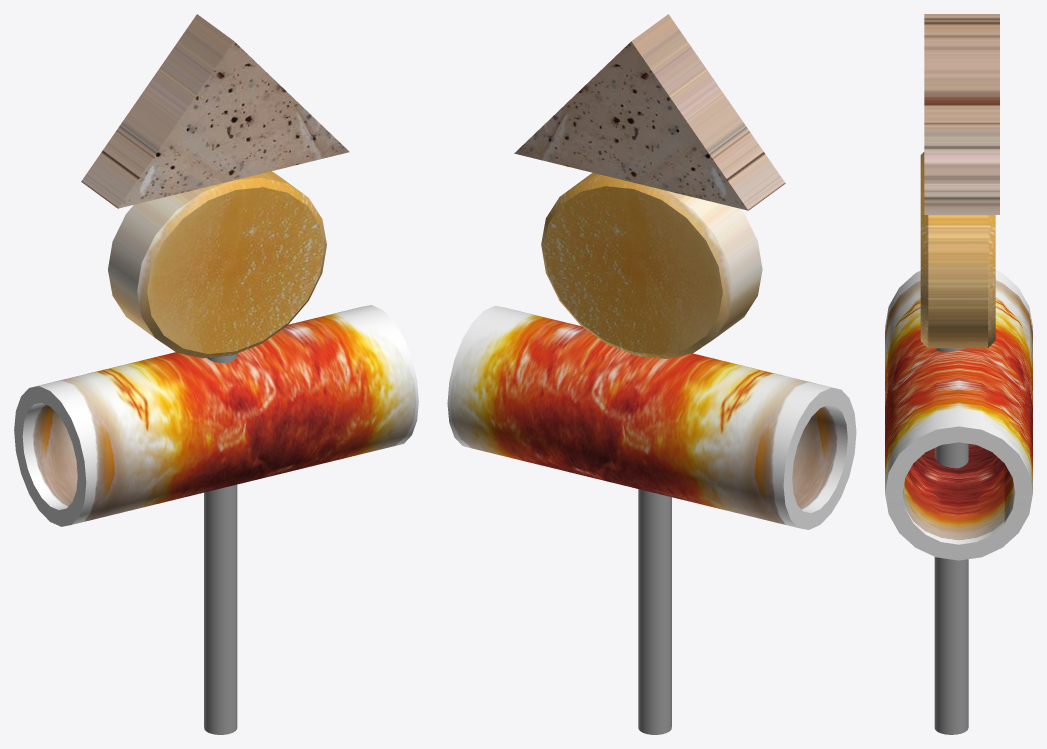
File: odden.fbx
3 views of the same model, side by side, from view 1: azimuth 30°, elevation 25°; view 2: azimuth 150°, elevation 25°; view 3: azimuth 270°, elevation 25° (orthographic). The views are drawn at different scales.
Parts seen in each view (by area): view 1: polySurface2; view 2: polySurface2; view 3: polySurface2.
Boxes of the visible parts, bbox=[...] form: polySurface2: bbox=[14, 14, 418, 734]; polySurface2: bbox=[447, 14, 856, 734]; polySurface2: bbox=[885, 14, 1032, 734].
Size of the model in its own units: 3.77 by 7.55 by 1.42.
2 materials, 1 textured.
